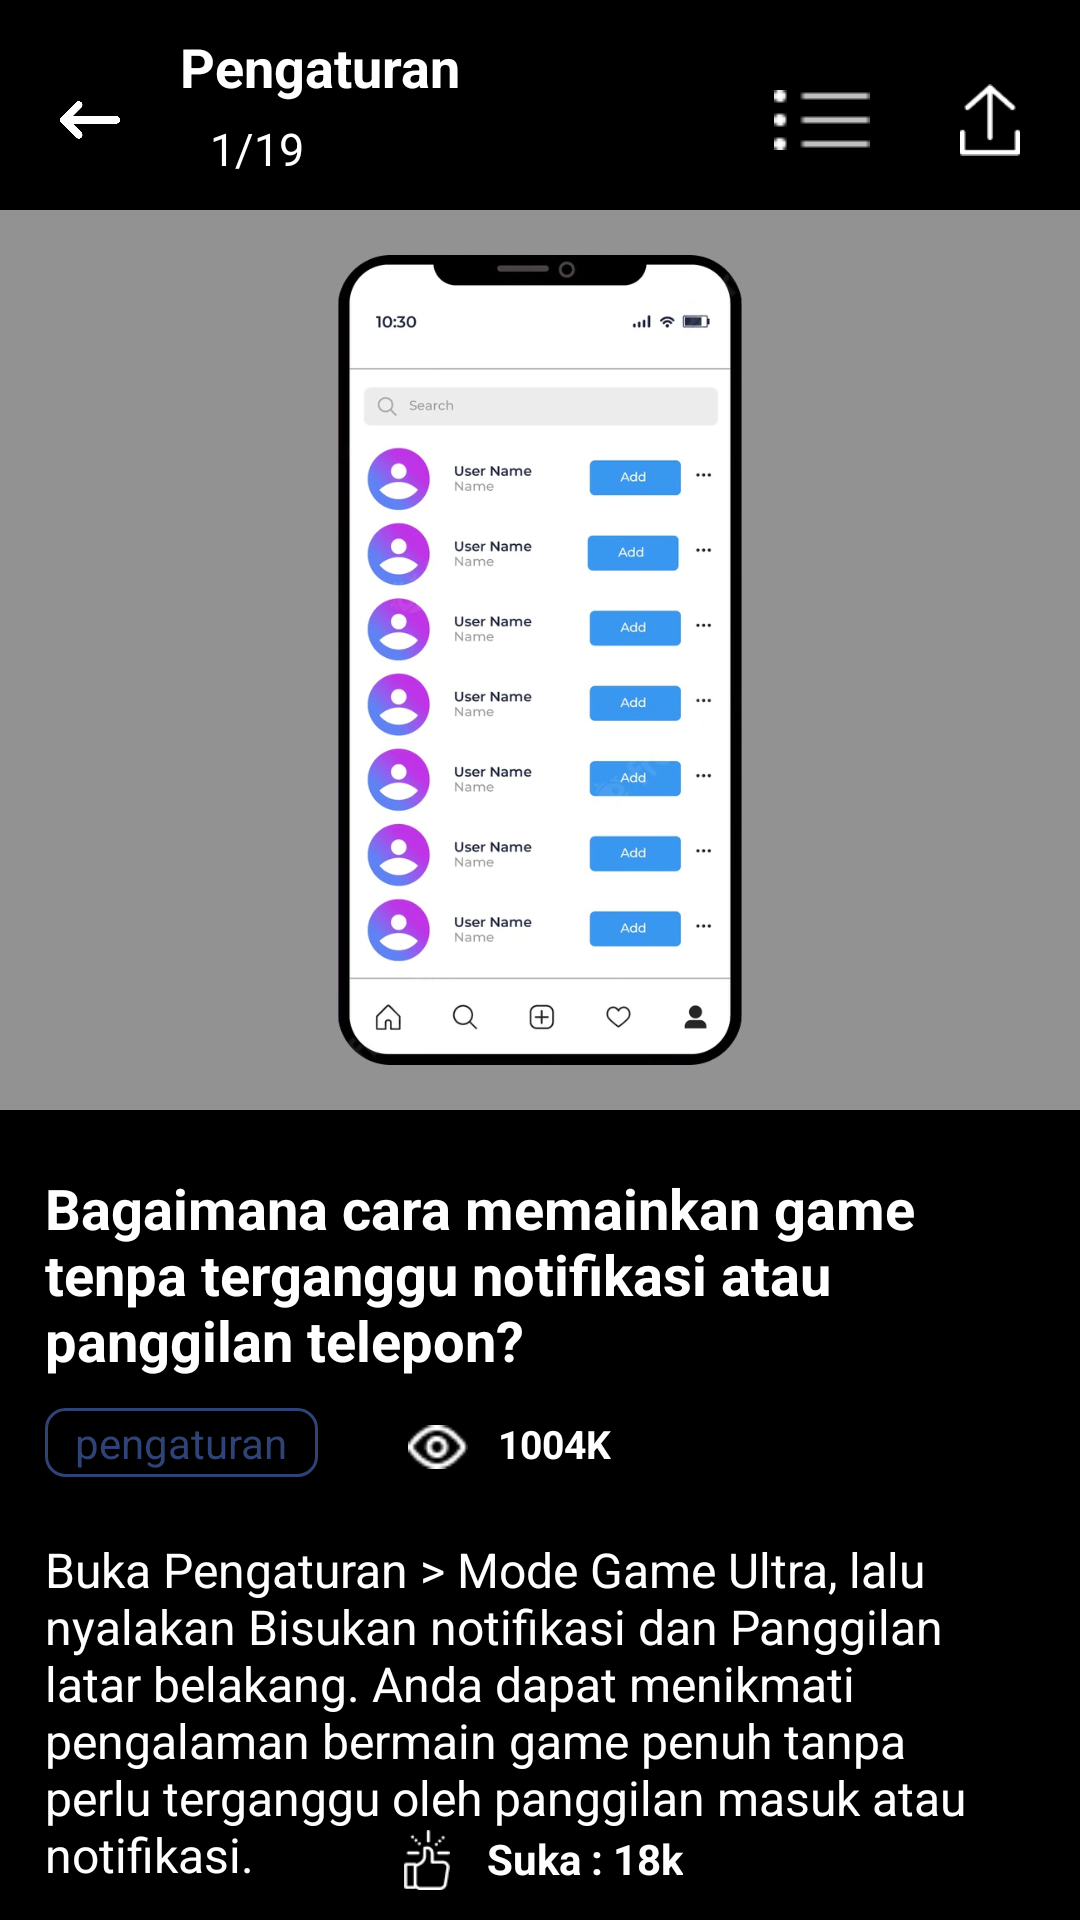

Locate icon controls on the screen. Image size 1080w x 1920h, boxes as BBox(x1, y1, x2, y2).
setting backvector: BBox(60, 101, 120, 139)
setting eye: BBox(408, 1425, 468, 1469)
setting like: BBox(404, 1830, 450, 1890)
setting menu: BBox(774, 90, 870, 150)
setting upload: BBox(960, 84, 1020, 156)
